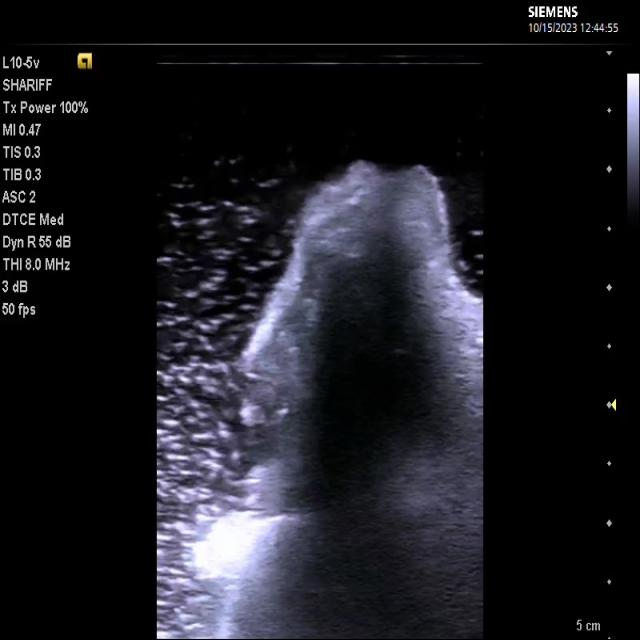tissue: (193, 160, 483, 638)
